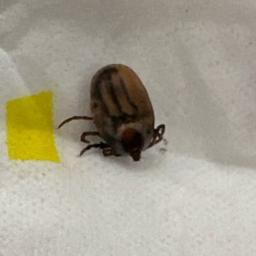Rhipicephalus sanguineus: (57, 62, 166, 162)
